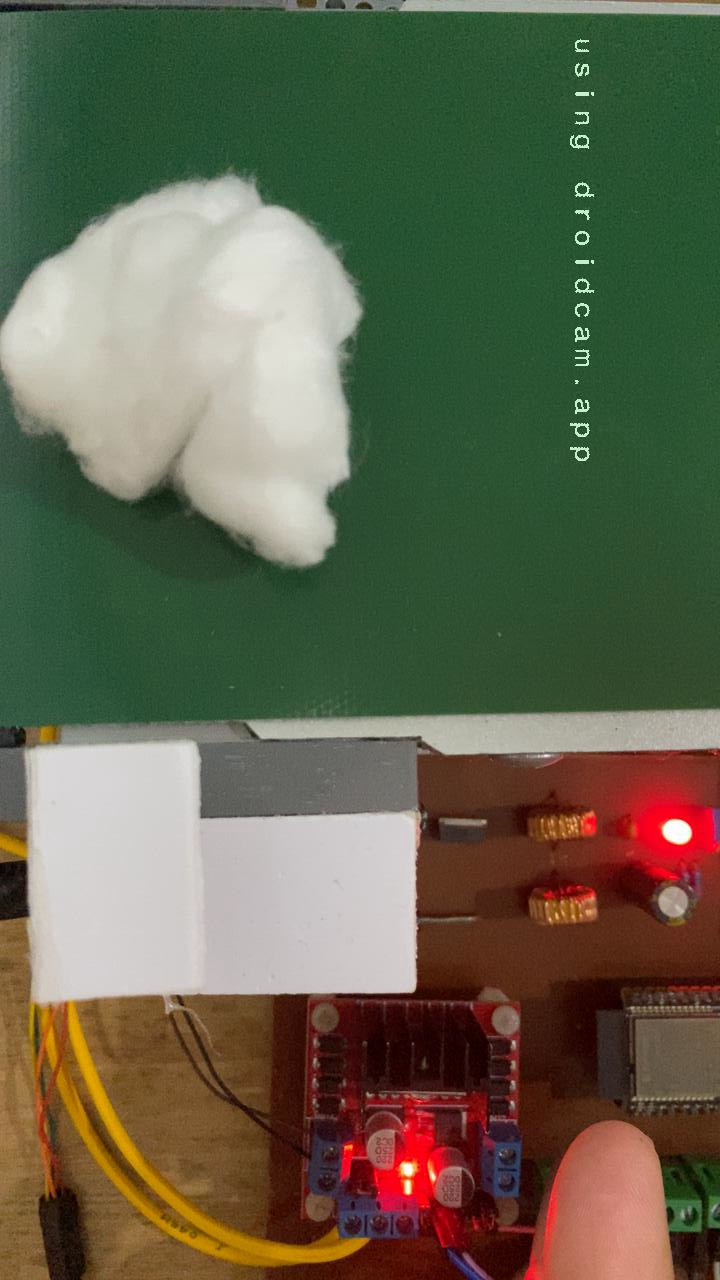cotton: (0, 167, 370, 574)
